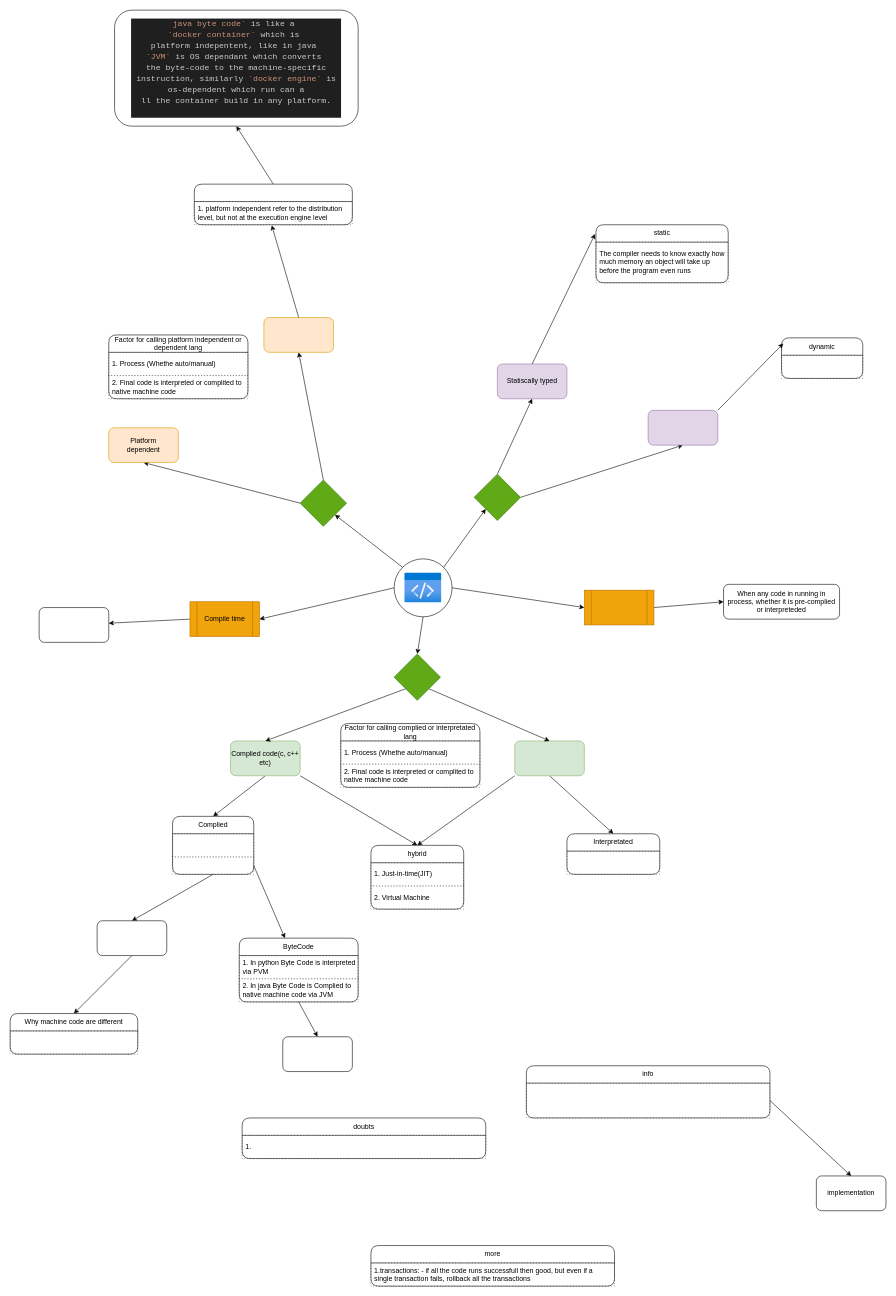
Some shapes in this 896 by 1296 pixel diagram are drawn without their labels. Each missing label, with the centre of its shape:
1. Complied to native machine code(AOT): pixel 213 845
1. Due to different ISA: pixel 74 1042
1. memory is calculated at runtime: pixel 822 366
1. These are pre-complied code machine code: pixel 613 862
2. Complied to bytecode: pixel 213 865
Byte code indepence depends on VM: pixel 317 1054
Compilation: Implicit vs. Explicit: pixel 648 1100
Compile to binary????: pixel 132 938
Dynamically typed: pixel 683 427
execution basis: pixel 417 676
Interpretated code(node.js, python etc): pixel 549 758
platform basis: pixel 323 502
Platform independent: pixel 298 334
Runtime time: pixel 619 607
typing basis: pixel 497 497
When the code is complied: pixel 74 624
